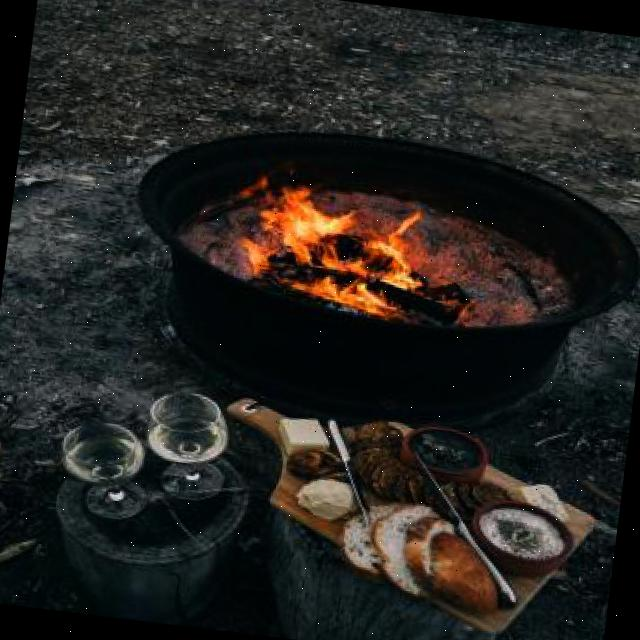fire: (222, 167, 444, 327)
